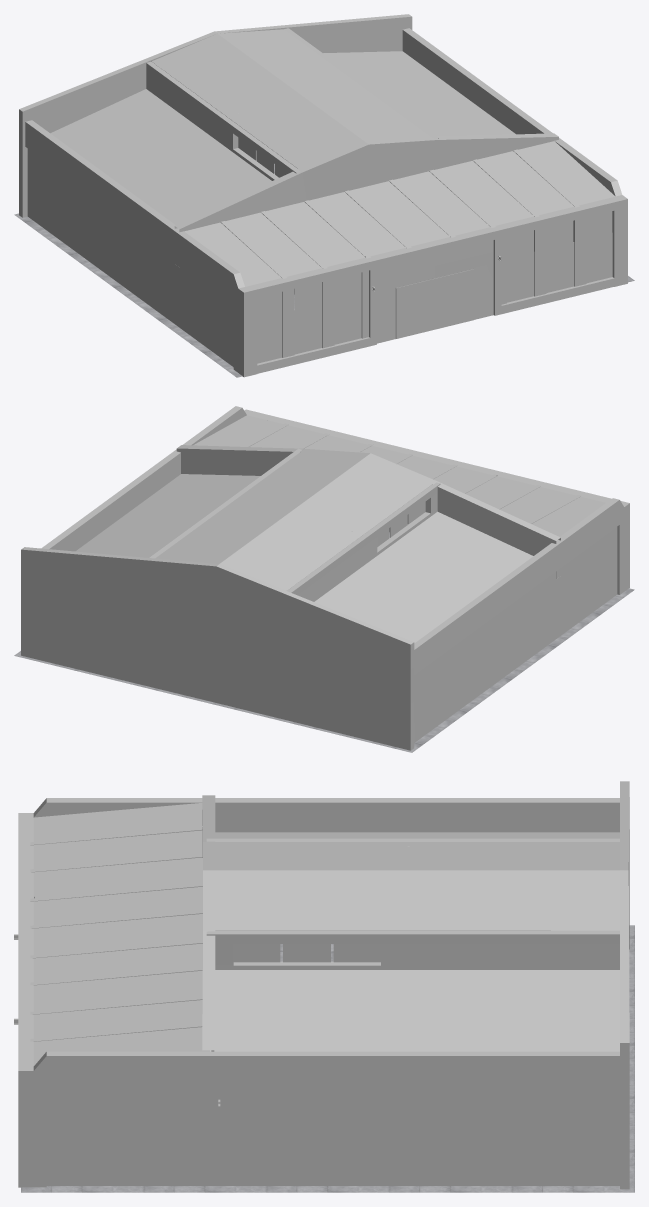
The model's file is Garage.fbx.
The picture shows the model from 3 angles, top to bottom: view 1: azimuth 30°, elevation 25°; view 2: azimuth 150°, elevation 25°; view 3: azimuth 270°, elevation 25°; orthographic projection. The views are drawn at different scales.
Parts seen in each view (by area): view 1: polySurface6, polySurface4, pPlane1, polySurface1, model_6_Mesh, polySurface2, Garage; view 2: polySurface6, polySurface4, pPlane1, Garage, model_6_Mesh; view 3: polySurface6, polySurface4, pPlane1, Garage, model_6_Mesh.
Boxes of the visible parts, x1,y1,x2,y2 form: polySurface6: [19, 14, 627, 377]; polySurface4: [27, 51, 612, 366]; pPlane1: [184, 141, 615, 286]; polySurface1: [395, 269, 474, 338]; model_6_Mesh: [238, 137, 612, 319]; polySurface2: [238, 113, 586, 357]; Garage: [14, 164, 634, 377]; polySurface6: [21, 406, 629, 750]; polySurface4: [75, 474, 617, 742]; pPlane1: [193, 415, 605, 536]; Garage: [14, 532, 634, 752]; model_6_Mesh: [377, 501, 425, 546]; polySurface6: [18, 781, 629, 1189]; polySurface4: [46, 832, 619, 1185]; pPlane1: [33, 803, 205, 1065]; Garage: [21, 925, 634, 1192]; model_6_Mesh: [233, 944, 380, 962].
Size of the model in its own units: 30.1 by 9.95 by 29.54.
